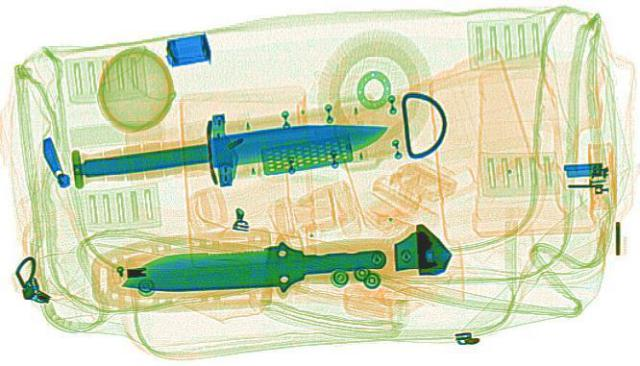Knife: (52, 90, 412, 206), (111, 225, 397, 308)
